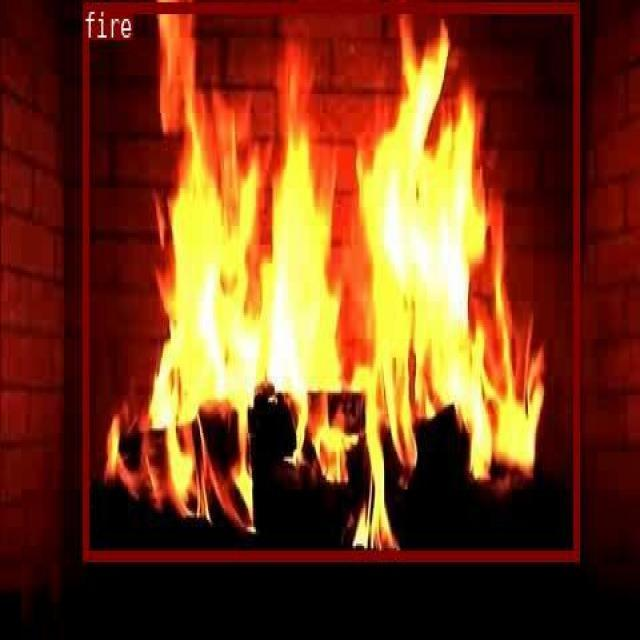fire: (82, 1, 578, 558)
